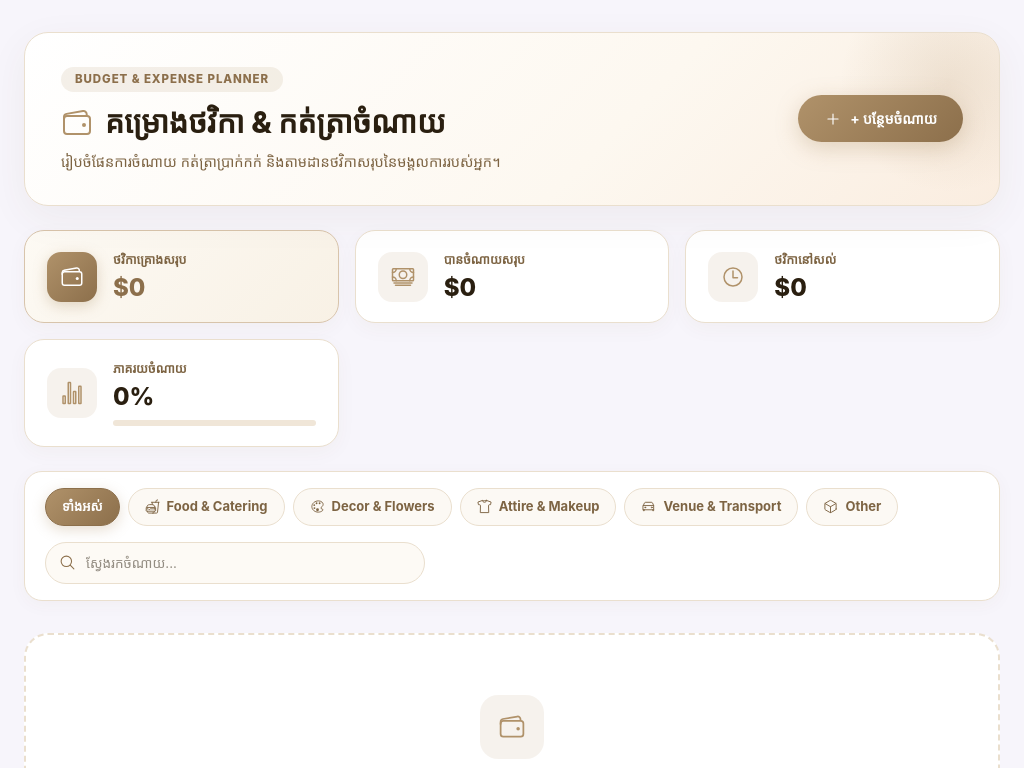
Test: Expenses Feature › opens add expense modal on add button click
Click the button "+ បន្ថែមចំណាយ".
click(881, 119)  # box [798, 96, 963, 142]
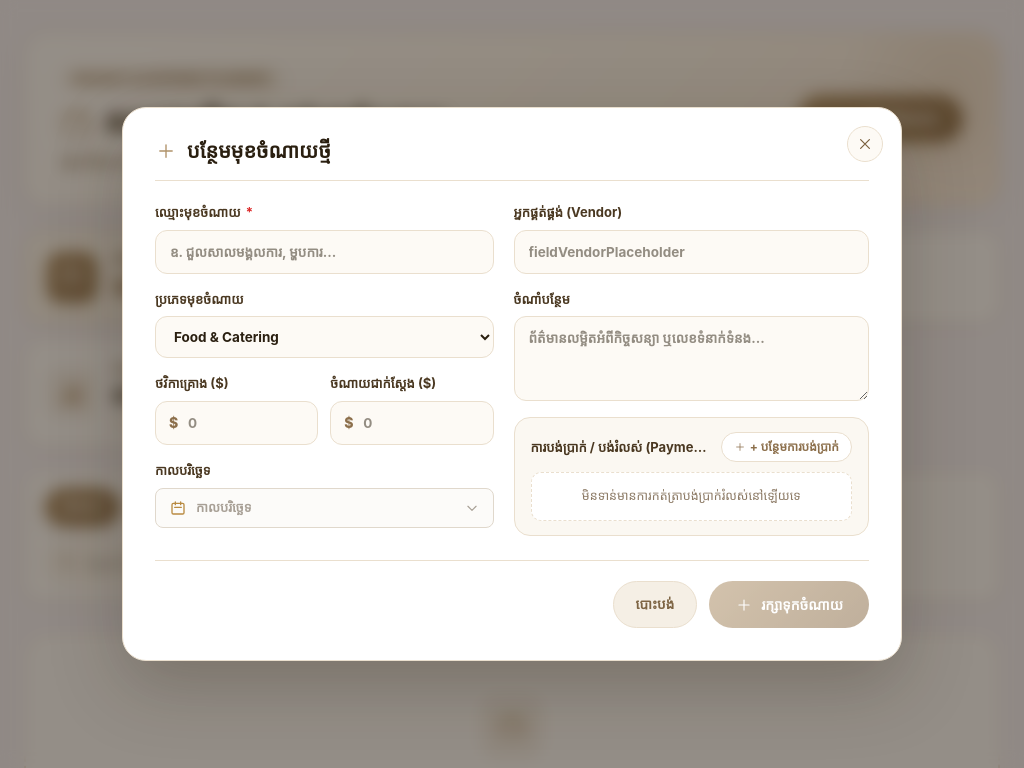
Result: the button "បោះបង់" is shown at [612, 581, 697, 628]
